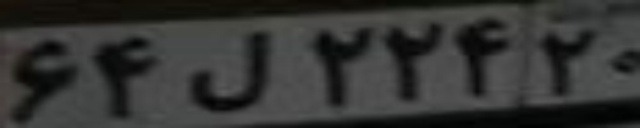0: (607, 49, 639, 74)
2: (314, 26, 372, 107), (384, 22, 439, 102), (537, 27, 597, 98)
4: (93, 36, 162, 118), (455, 18, 511, 98)
6: (8, 38, 78, 123)
lam: (183, 30, 276, 113)
